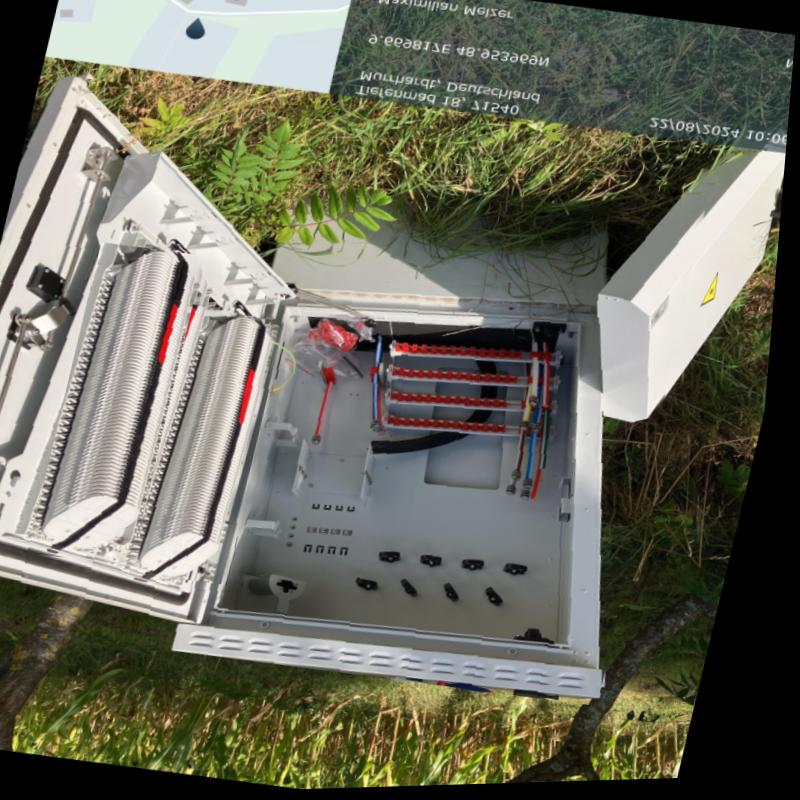NT-Gehause: (0, 77, 614, 701)
Spleiskassetten: (40, 251, 212, 564), (140, 318, 286, 580)
